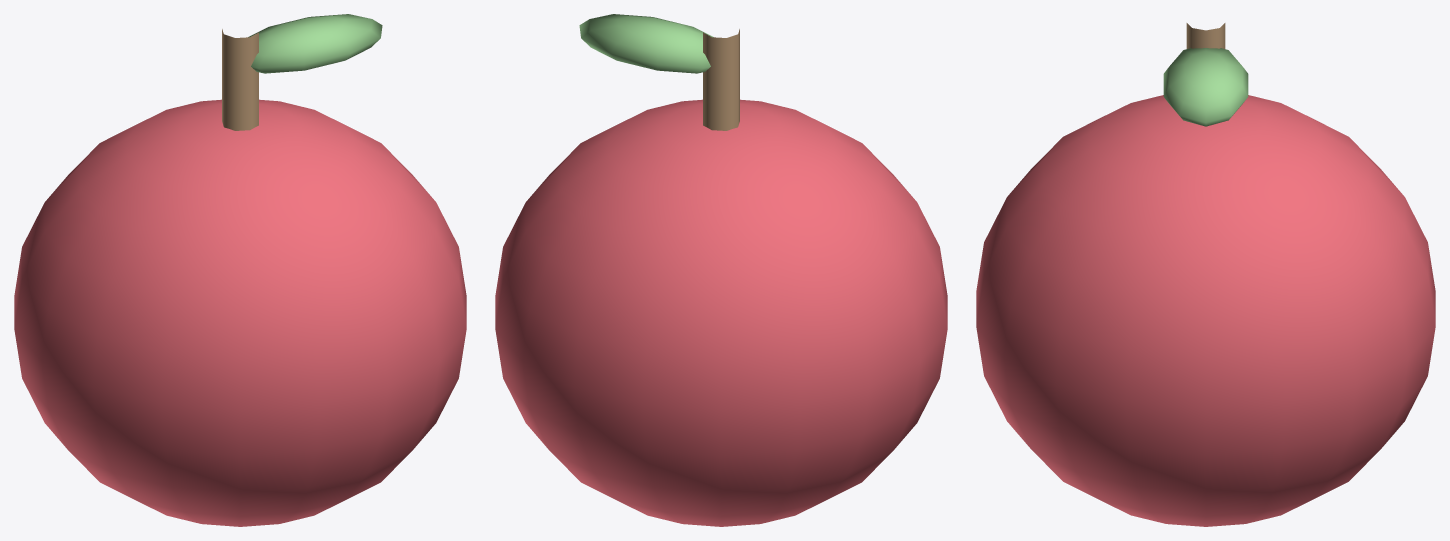
Rendered from manzana.glb.
3 renders of one model, left to right at view 1: azimuth 30°, elevation 25°; view 2: azimuth 150°, elevation 25°; view 3: azimuth 270°, elevation 25°, orthographic.
Parts seen in each view (by area): view 1: fruta, hoja, tallo; view 2: fruta, hoja, tallo; view 3: fruta, hoja, tallo.
Part boxes in pixels (x1,y1,x2,y2): fruta: (14,99,466,526); hoja: (248,14,382,73); tallo: (222,29,258,130); fruta: (495,99,947,526); hoja: (579,14,713,73); tallo: (703,29,739,130); fruta: (976,95,1435,526); hoja: (1163,48,1248,126); tallo: (1186,23,1225,48).
Bounding box in the file's own units: 0.84 × 0.9564 × 0.8272.
